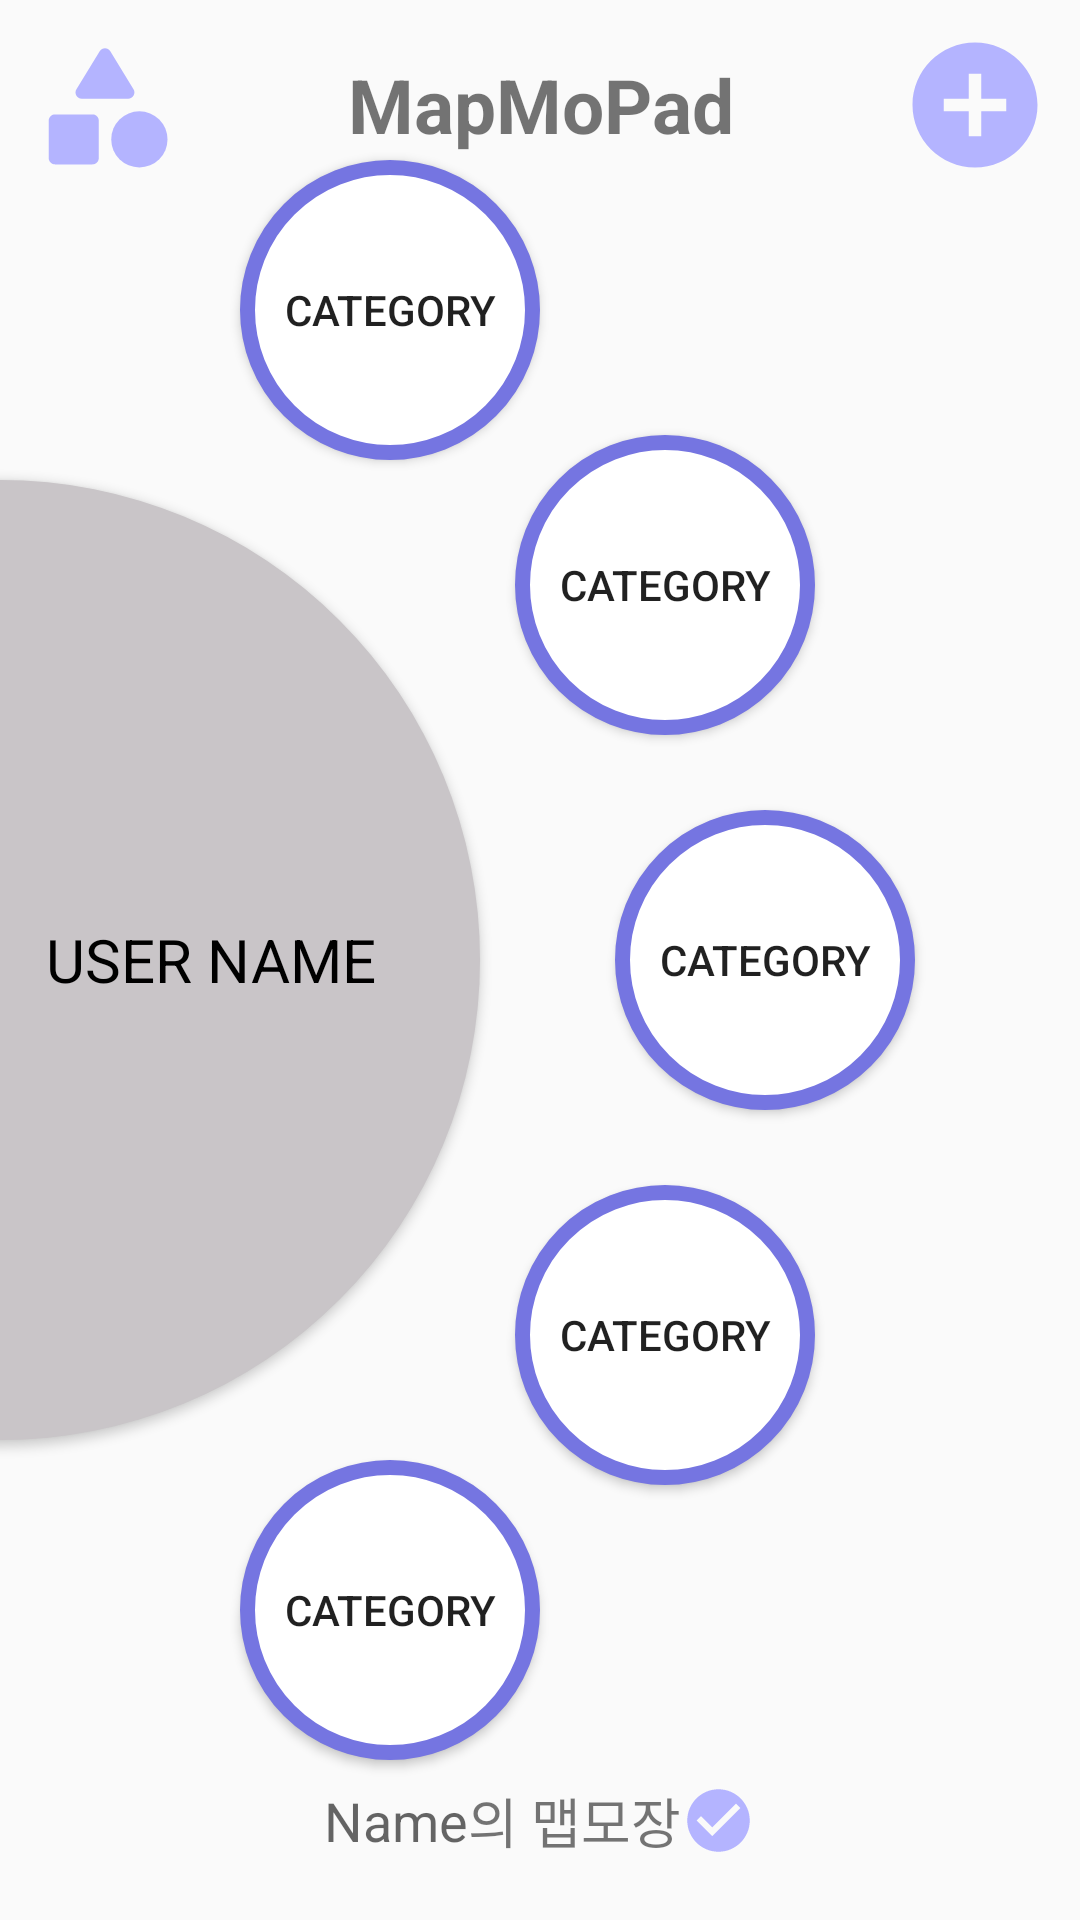

Locate icon controls on the screen. Image size 1080×1920, boxes as bbox=[x1, y1, x2, y2].
add: bbox=[912, 42, 1038, 168]
check: bbox=[687, 1789, 750, 1852]
